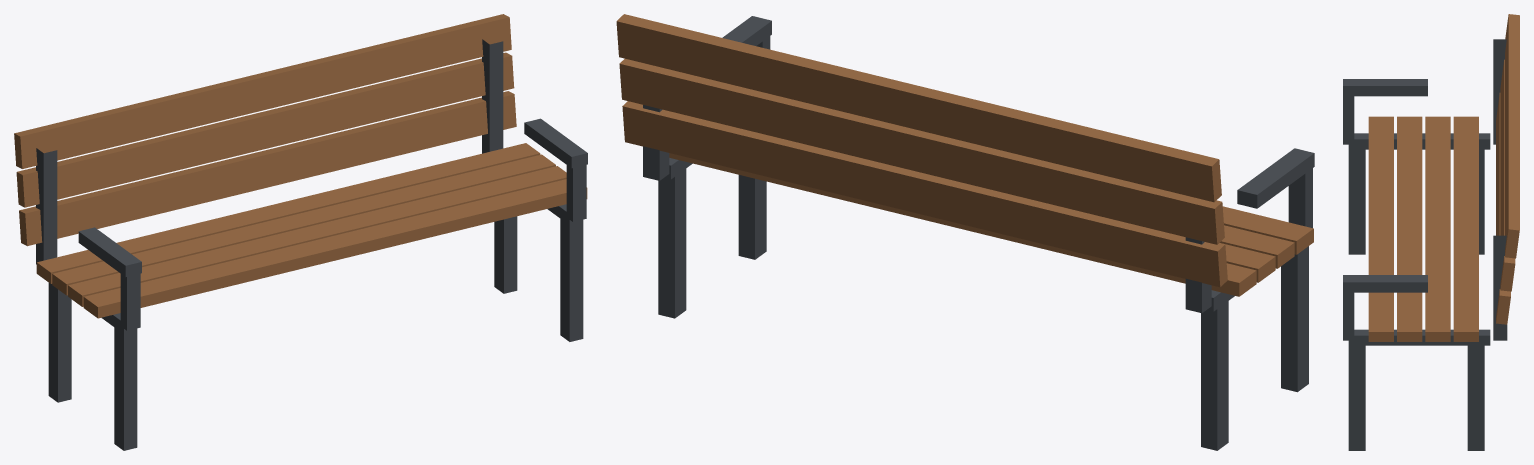
File: banco-praca.glb
3 views of the same model, side by side, from view 1: azimuth 30°, elevation 25°; view 2: azimuth 150°, elevation 25°; view 3: azimuth 270°, elevation 25° (orthographic). The views are drawn at different scales.
Parts seen in each view (by area): view 1: Encosto, Assento, Estrutura; view 2: Encosto, Estrutura, Assento; view 3: Assento, Estrutura, Encosto.
Boxes of the visible parts, bbox=[...] form: Encosto: bbox=[14, 14, 516, 246]; Assento: bbox=[36, 143, 587, 318]; Estrutura: bbox=[36, 39, 587, 450]; Encosto: bbox=[616, 14, 1227, 287]; Estrutura: bbox=[643, 16, 1314, 450]; Assento: bbox=[669, 153, 1313, 296]; Assento: bbox=[1368, 116, 1478, 341]; Estrutura: bbox=[1343, 39, 1507, 450]; Encosto: bbox=[1496, 14, 1519, 324].
Size of the model in its own units: 1.8 by 0.8897 by 0.6241.
